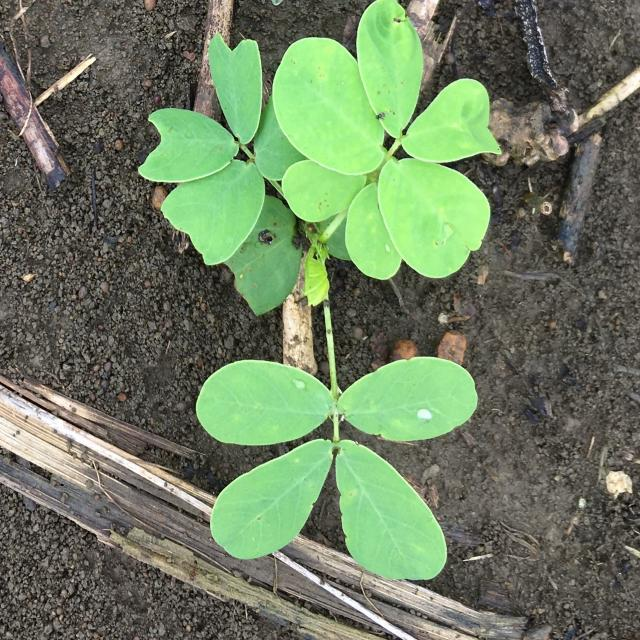Sicklepod: (138, 1, 502, 580)
